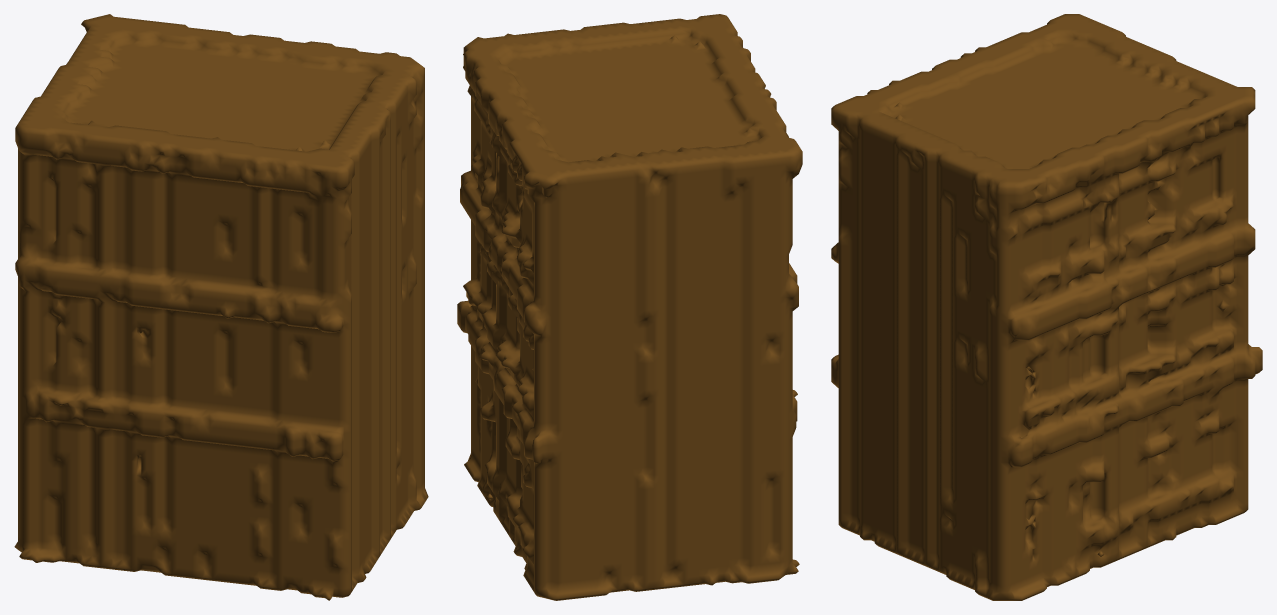
The model's file is gen1_colored.obj.
3 views of the same model, side by side, from view 1: azimuth 30°, elevation 25°; view 2: azimuth 150°, elevation 25°; view 3: azimuth 270°, elevation 25° (orthographic). The views are drawn at different scales.
Parts seen in each view (by area): view 1: gen1.obj; view 2: gen1.obj; view 3: gen1.obj.
Boxes of the visible parts, box(x1,y1,x2,y2) form: gen1.obj: box(14, 14, 428, 600); gen1.obj: box(457, 14, 802, 600); gen1.obj: box(831, 14, 1262, 600).
Bounding box in the file's own units: 58 × 64 × 60.
